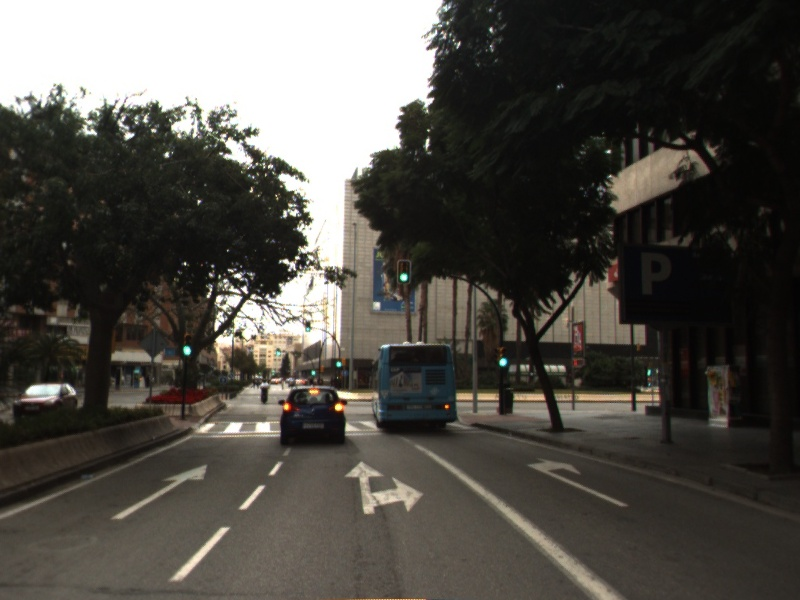RIGHT: (525, 456, 632, 508)
STRAIGHT: (109, 462, 210, 522)
STRAIGHT_RIGHT: (342, 459, 426, 516)
